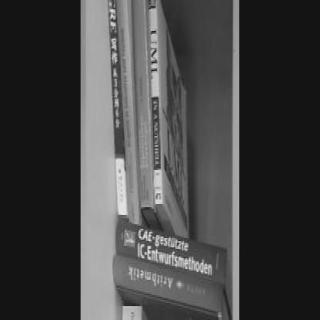book-spine: (108, 217, 233, 282), (105, 253, 228, 314), (115, 0, 140, 226), (132, 0, 153, 209), (108, 0, 126, 214), (148, 0, 162, 203)
